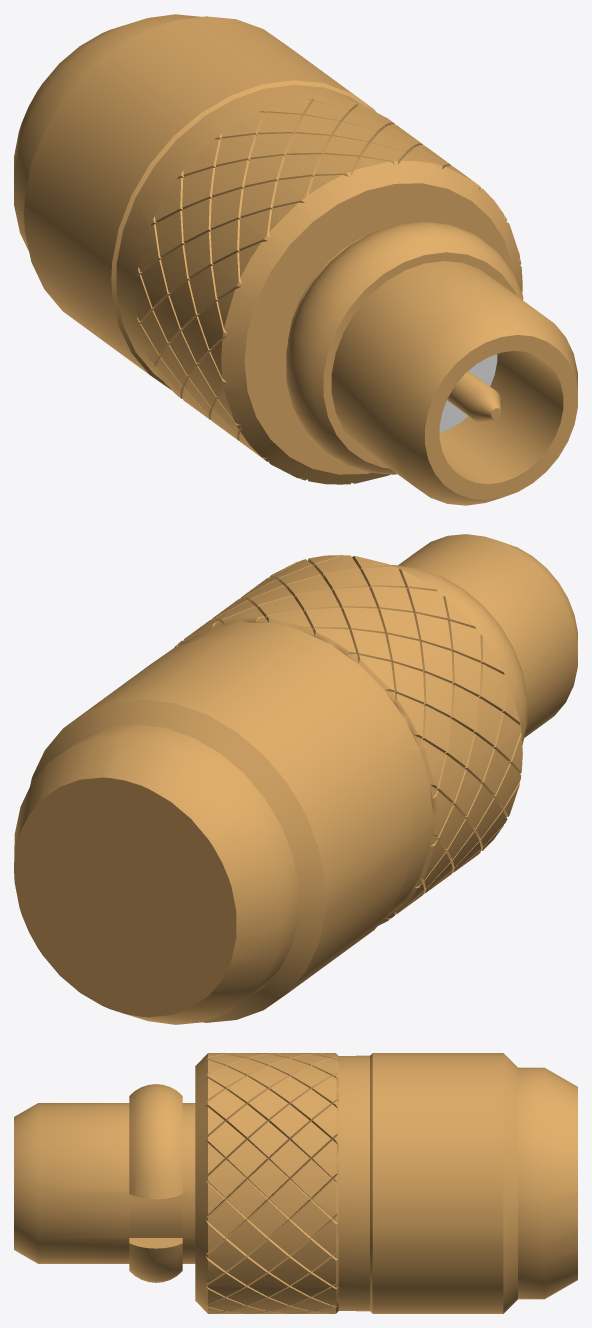
The model's file is mmcx_male.glb.
3 views of the same model, one above another, from view 1: azimuth 30°, elevation 25°; view 2: azimuth 150°, elevation 25°; view 3: azimuth 270°, elevation 25° (orthographic). The views are drawn at different scales.
Parts seen in each view (by area): view 1: mmcx_male; view 2: mmcx_male; view 3: mmcx_male.
Part boxes in pixels (<box>): mmcx_male: <box>14,14,577,505</box>; mmcx_male: <box>14,534,577,1024</box>; mmcx_male: <box>14,1053,577,1313</box>.
Size of the model in its own units: 0.3886 by 0.3886 by 0.8401.
